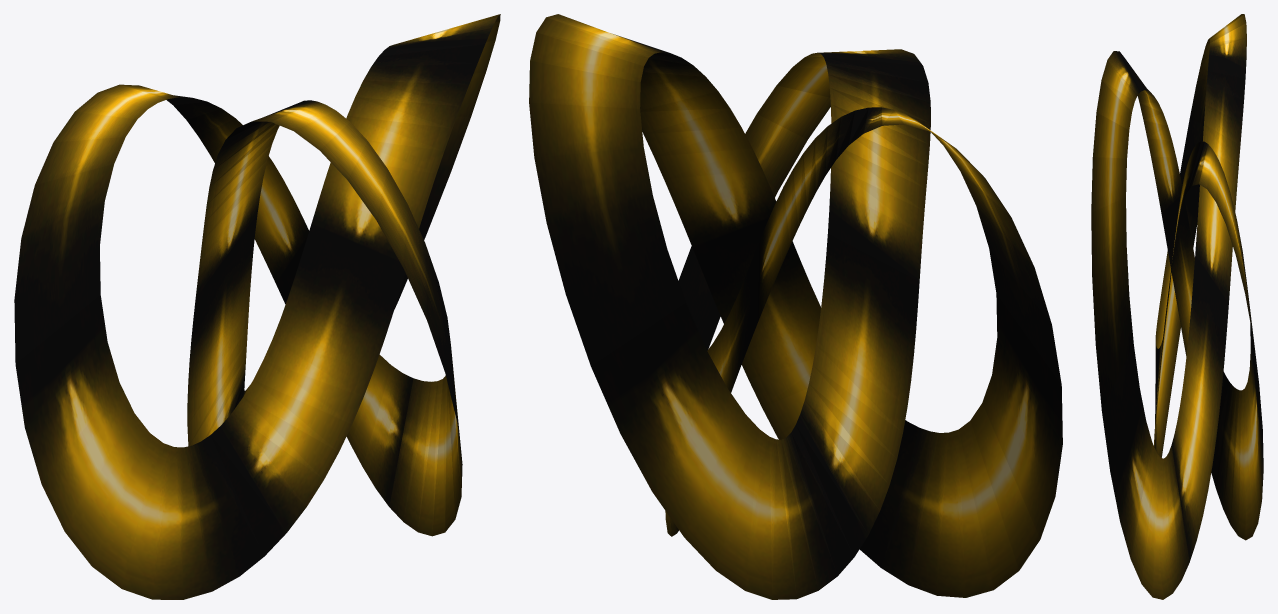
Rendered from tx_summon_baolieshu_keep.obj.
The picture shows the model from 3 angles, left to right: view 1: azimuth 30°, elevation 25°; view 2: azimuth 150°, elevation 25°; view 3: azimuth 270°, elevation 25°; orthographic projection. The views are drawn at different scales.
Visible parts, largest first — view 1: Torus Knot01; view 2: Torus Knot01; view 3: Torus Knot01.
Part boxes in pixels (x1,y1,x2,y2): Torus Knot01: (14, 14, 500, 599); Torus Knot01: (529, 14, 1062, 599); Torus Knot01: (1091, 14, 1263, 599).
Bounding box in the file's own units: 23.85 × 22.47 × 7.73.
1 material, 1 textured.
